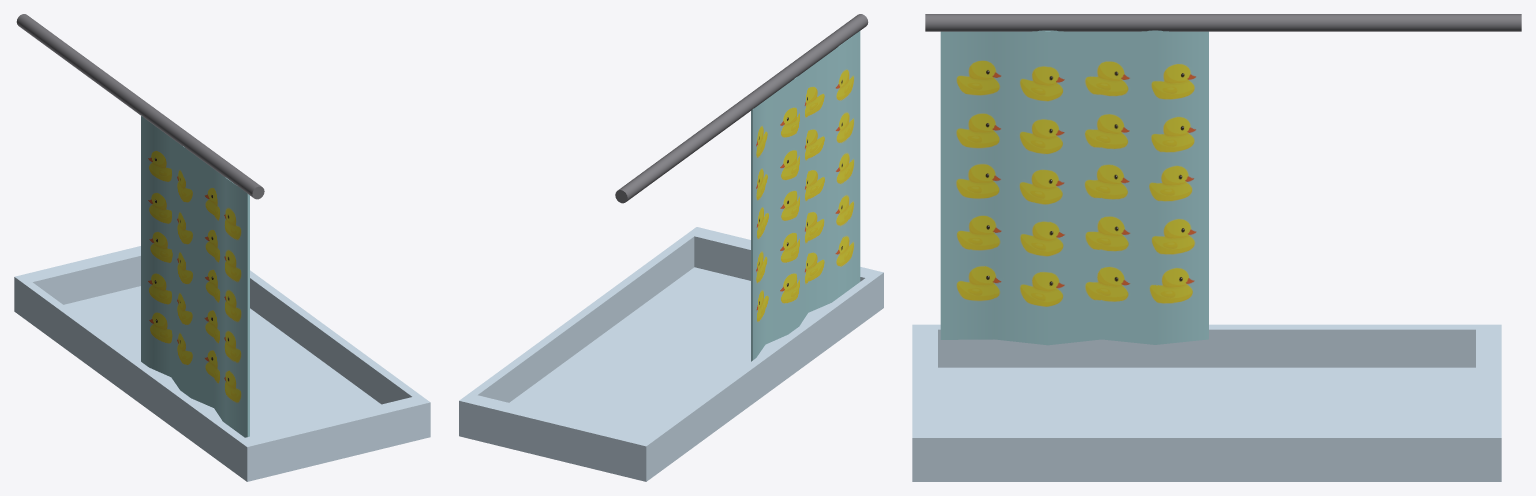
Rendered from Dus.fbx.
The picture shows the model from 3 angles, left to right: view 1: azimuth 30°, elevation 25°; view 2: azimuth 150°, elevation 25°; view 3: azimuth 270°, elevation 25°; orthographic projection. The views are drawn at different scales.
Visible parts, largest first — view 1: Küvet, Küvet.001, Küvet.002; view 2: Küvet, Küvet.001, Küvet.002; view 3: Küvet, Küvet.001, Küvet.002.
Part boxes in pixels (bbox=[...]): Küvet: bbox=[14, 246, 430, 481]; Küvet.001: bbox=[141, 116, 249, 437]; Küvet.002: bbox=[16, 14, 264, 199]; Küvet: bbox=[459, 227, 883, 481]; Küvet.001: bbox=[751, 31, 860, 361]; Küvet.002: bbox=[615, 14, 868, 203]; Küvet: bbox=[912, 324, 1501, 481]; Küvet.001: bbox=[940, 30, 1208, 345]; Küvet.002: bbox=[925, 14, 1521, 31].
Size of the model in its own units: 200 by 300 by 455.
